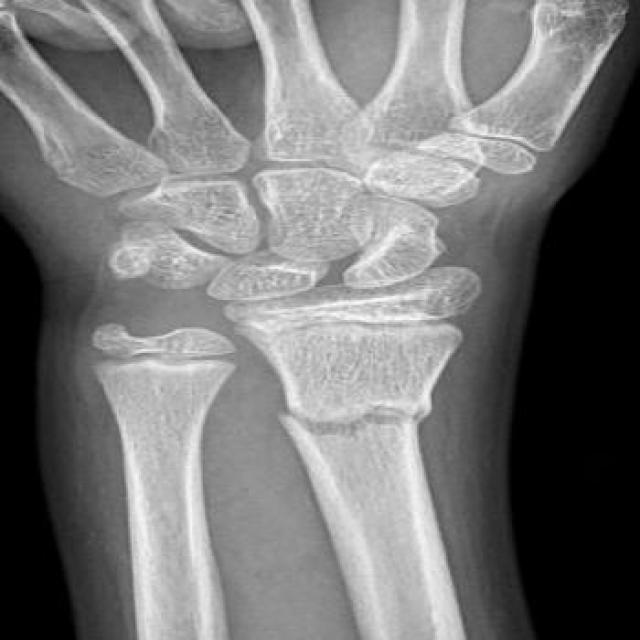fracture: (255, 386, 456, 452)
